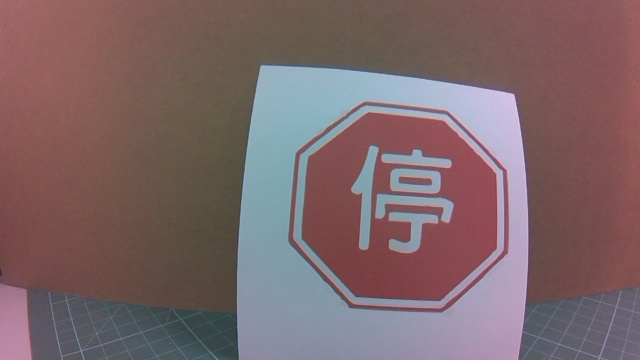stop: (285, 118, 481, 324)
